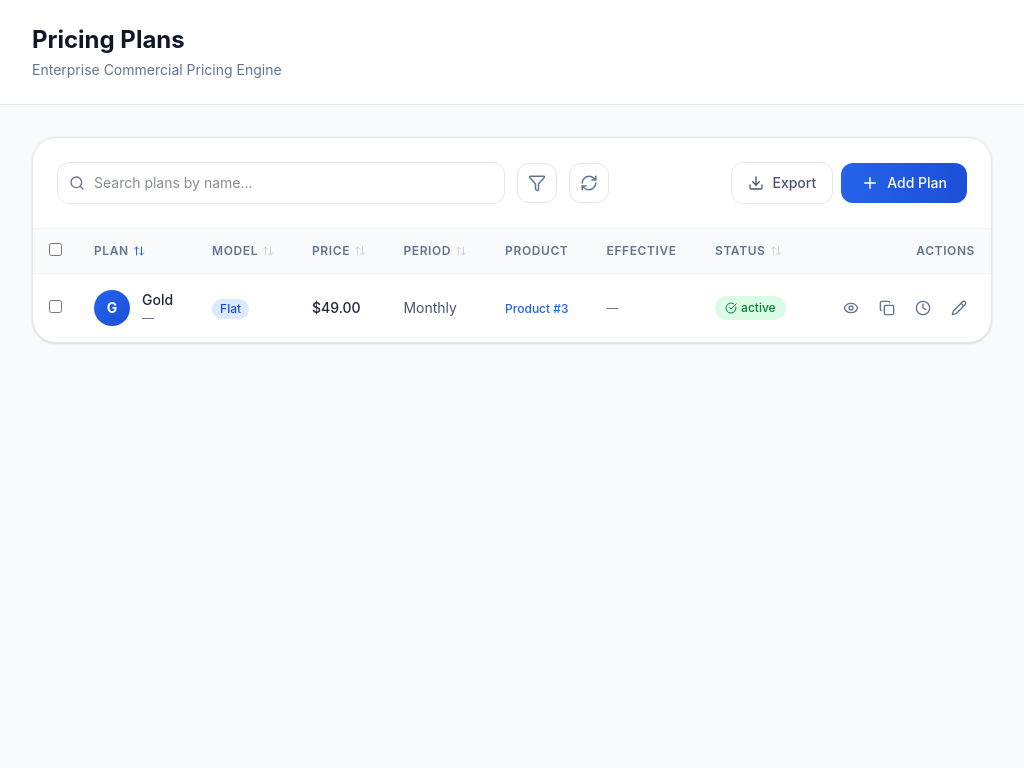
Scenario: Pricing Plan form keeps focus while typing › Edit Pricing Plan: typing into the name appends every key and keeps focus
Expected: the text "Gold" is shown, [142,290,173,310]
Click the button named "edit". click: (959, 308)
box: [943,292,975,324]
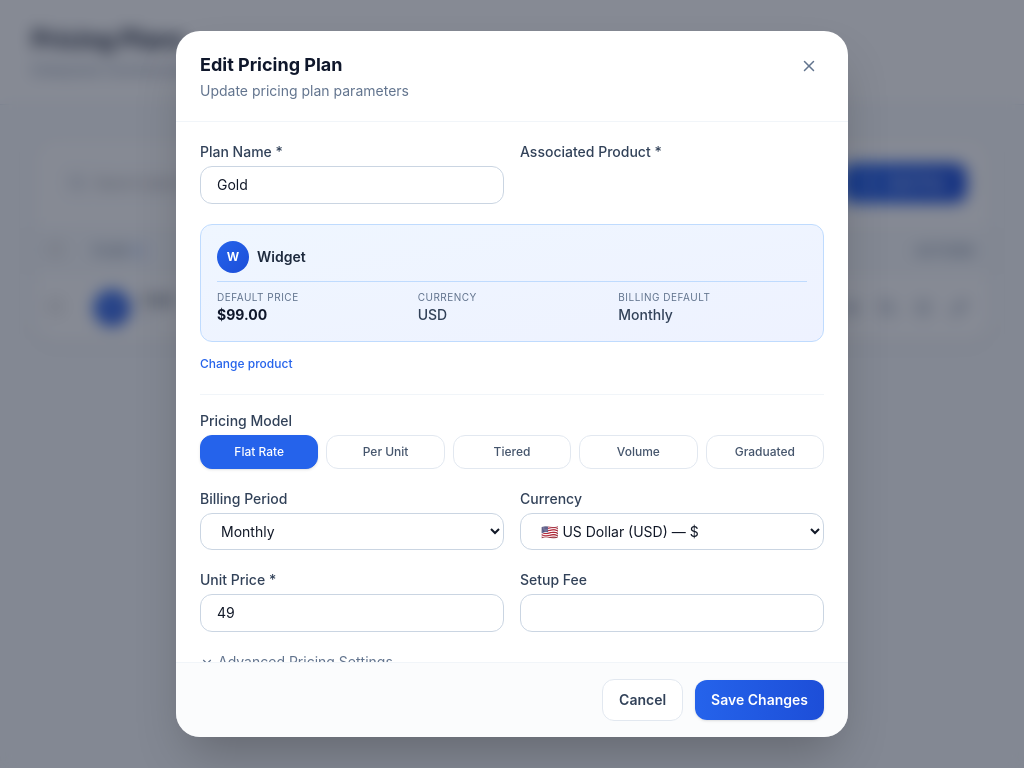
Type " Plus" into the field with placeholder "e.g. Standard Monthly". click: (352, 185)
box: [200,166,504,204]
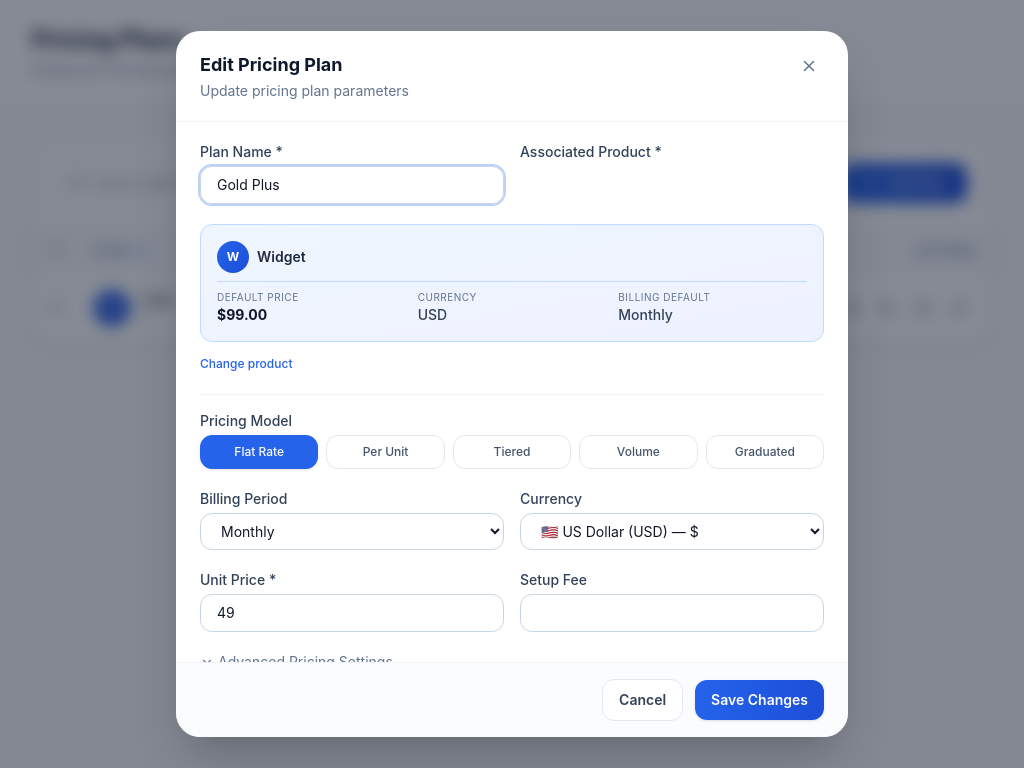
Now the field with placeholder "e.g. Standard Monthly" holds "Gold Plus", box [200,166,504,204]
